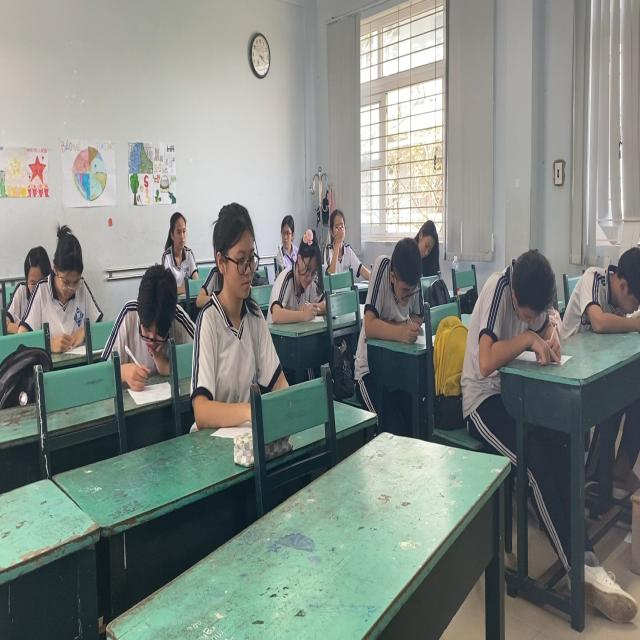not_cheating: (194, 210, 278, 418), (472, 247, 569, 367), (24, 220, 99, 338), (111, 266, 197, 366), (361, 233, 431, 344), (260, 203, 326, 316), (154, 200, 194, 272), (417, 220, 447, 296), (326, 205, 355, 268)
